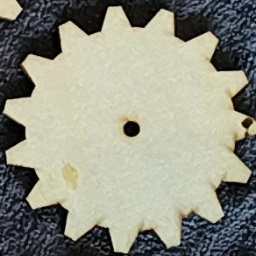Points: (239, 116, 254, 139)
